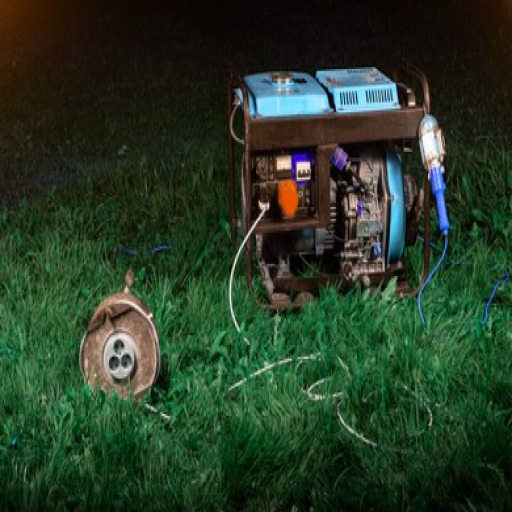portable_generator: (228, 59, 433, 315)
